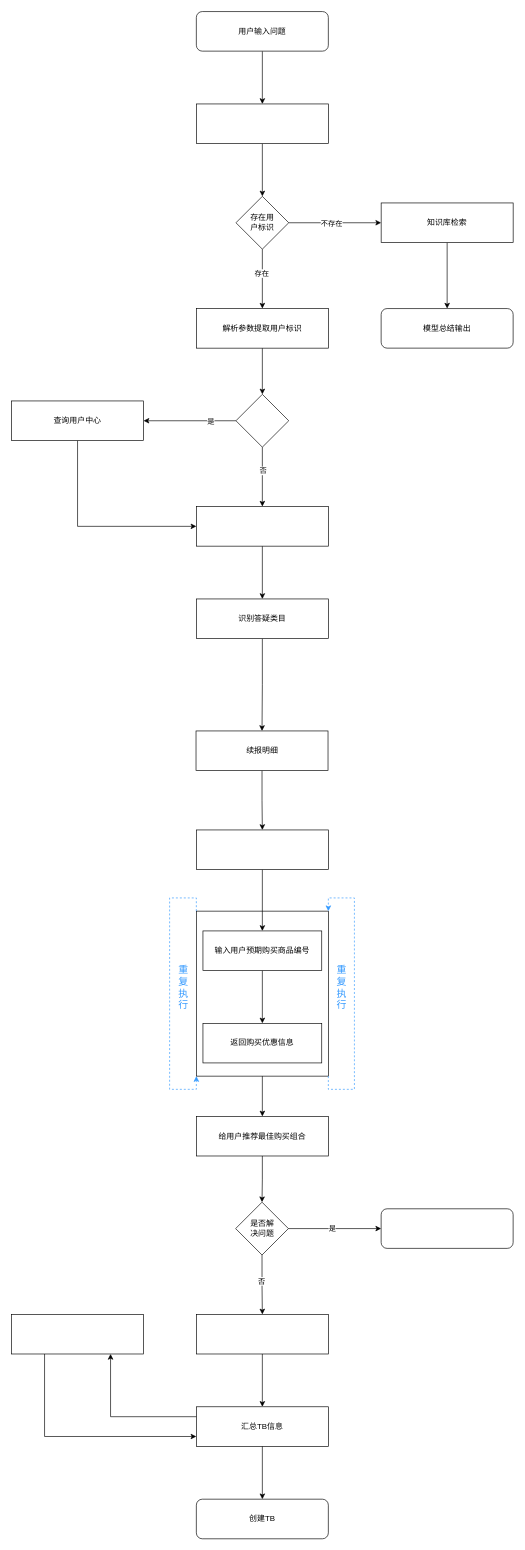
This 525x1550 diagram has some shape labels left out. The centre of each missing label's shape, as x and y in pixels:
优惠结算: the point at 262,849
提取用户沟通记录: the point at 262,1334
是否为 手机号: the point at 262,420
查找续报值班: the point at 77,1334
结束会话: the point at 446,1228
获得用户UID: the point at 262,526
识别用户需求 「 售前答疑 」: the point at 262,123
